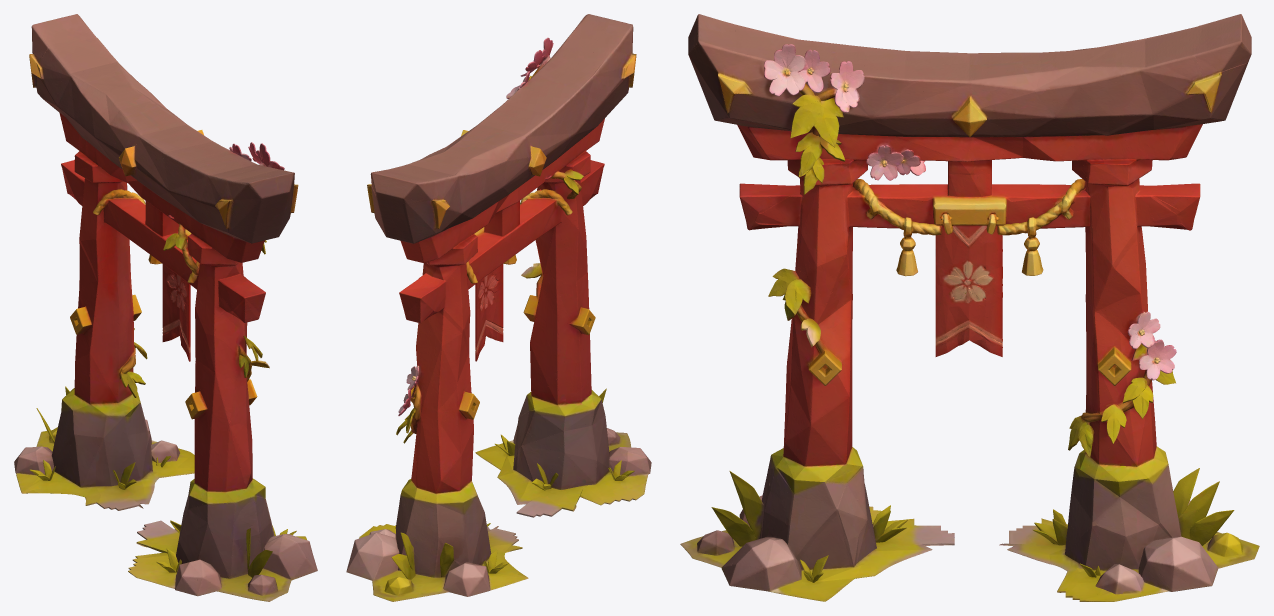
The model's file is KeepSakeEntranceJapanese.glb.
The picture shows the model from 3 angles, left to right: view 1: azimuth 30°, elevation 25°; view 2: azimuth 150°, elevation 25°; view 3: azimuth 270°, elevation 25°; orthographic projection. The views are drawn at different scales.
Visible parts, largest first — view 1: tripo_node_c64b71c5-767f-43b9-9ccf-059e7b6dbeea; view 2: tripo_node_c64b71c5-767f-43b9-9ccf-059e7b6dbeea; view 3: tripo_node_c64b71c5-767f-43b9-9ccf-059e7b6dbeea.
Part boxes in pixels (<box>): tripo_node_c64b71c5-767f-43b9-9ccf-059e7b6dbeea: <box>14,14,317,601</box>; tripo_node_c64b71c5-767f-43b9-9ccf-059e7b6dbeea: <box>346,14,651,601</box>; tripo_node_c64b71c5-767f-43b9-9ccf-059e7b6dbeea: <box>680,14,1259,601</box>.
Size of the model in its own units: 0.4145 by 0.9775 by 0.9802.
Materials: 1 (1 with a texture image).
